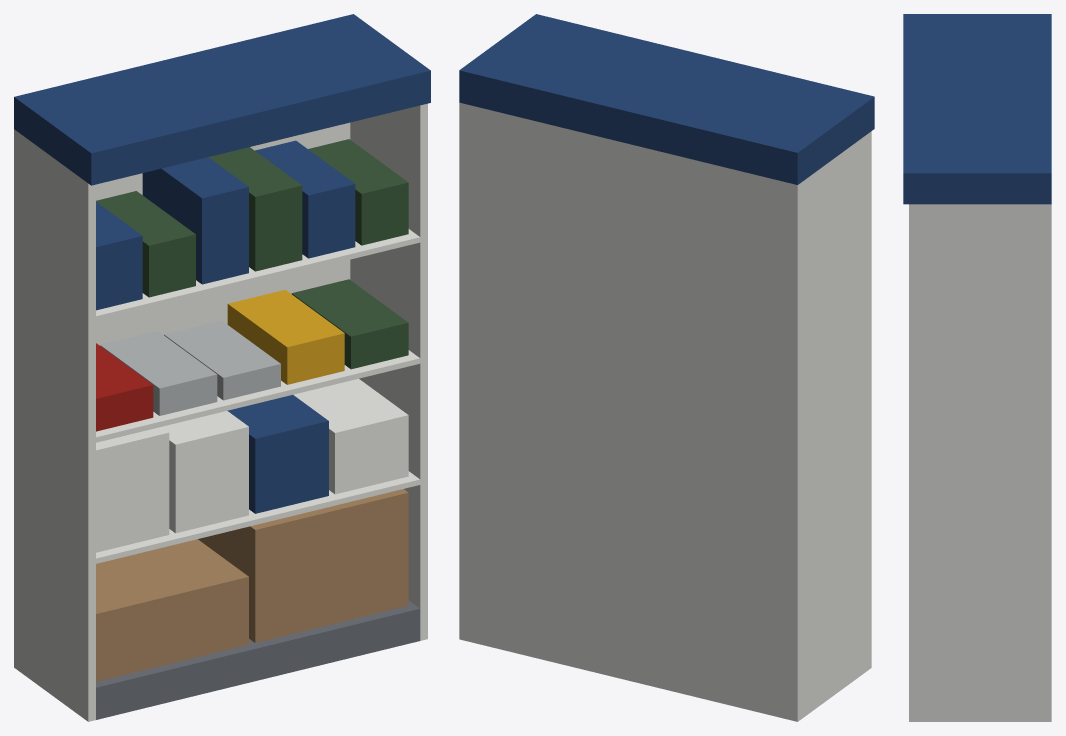
Rendered from shelf_wall.glb.
3 views of the same model, side by side, from view 1: azimuth 30°, elevation 25°; view 2: azimuth 150°, elevation 25°; view 3: azimuth 270°, elevation 25° (orthographic). The views are drawn at different scales.
Visible parts, largest first — view 1: shelf_wall; view 2: shelf_wall; view 3: shelf_wall.
Boxes of the visible parts, x1,y1,x2,y2 form: shelf_wall: (14, 14, 430, 721); shelf_wall: (459, 14, 874, 721); shelf_wall: (903, 14, 1051, 721).
Bounding box in the file's own units: 1.32 × 2.12 × 0.52.
1 material, 1 textured.
